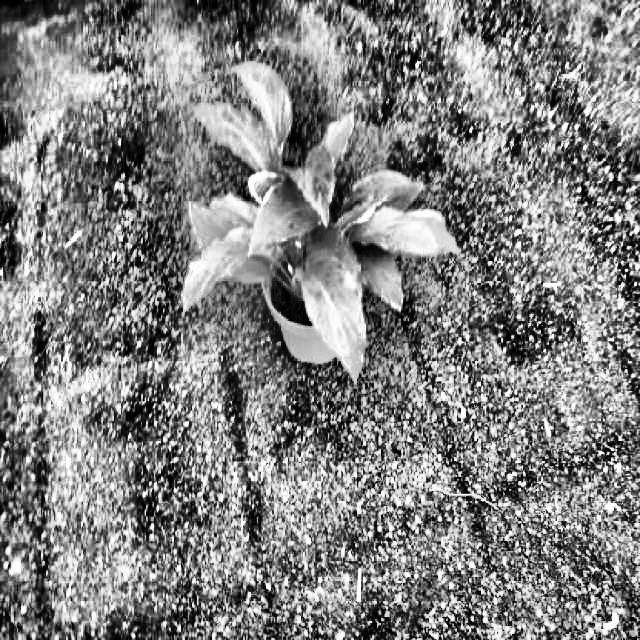plants: (178, 64, 458, 384)
